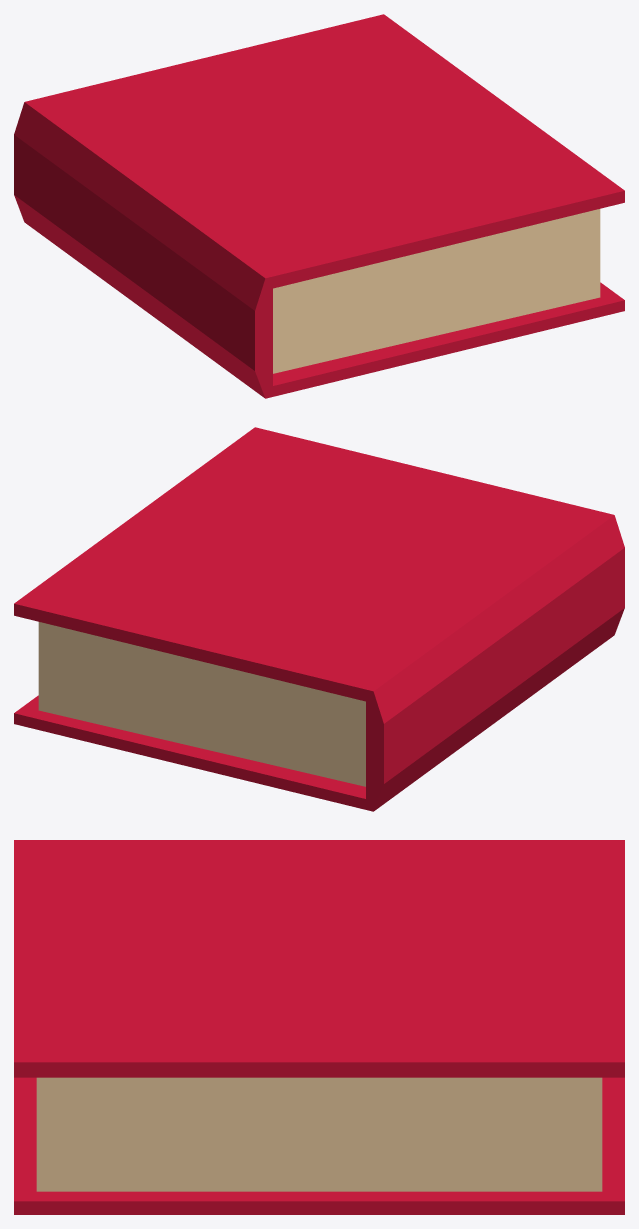
File: Prop_Book_Red_01.FBX
3 renders of one model, top to bottom at view 1: azimuth 30°, elevation 25°; view 2: azimuth 150°, elevation 25°; view 3: azimuth 270°, elevation 25°, orthographic. The views are drawn at different scales.
Visible parts, largest first — view 1: Prop_Book_Red_01; view 2: Prop_Book_Red_01; view 3: Prop_Book_Red_01.
Part boxes in pixels (left/top/right/bottom): Prop_Book_Red_01: left=14, top=14, right=624, bottom=398; Prop_Book_Red_01: left=14, top=427, right=624, bottom=811; Prop_Book_Red_01: left=14, top=840, right=624, bottom=1214.
Size of the model in its own units: 341 by 106 by 385.
